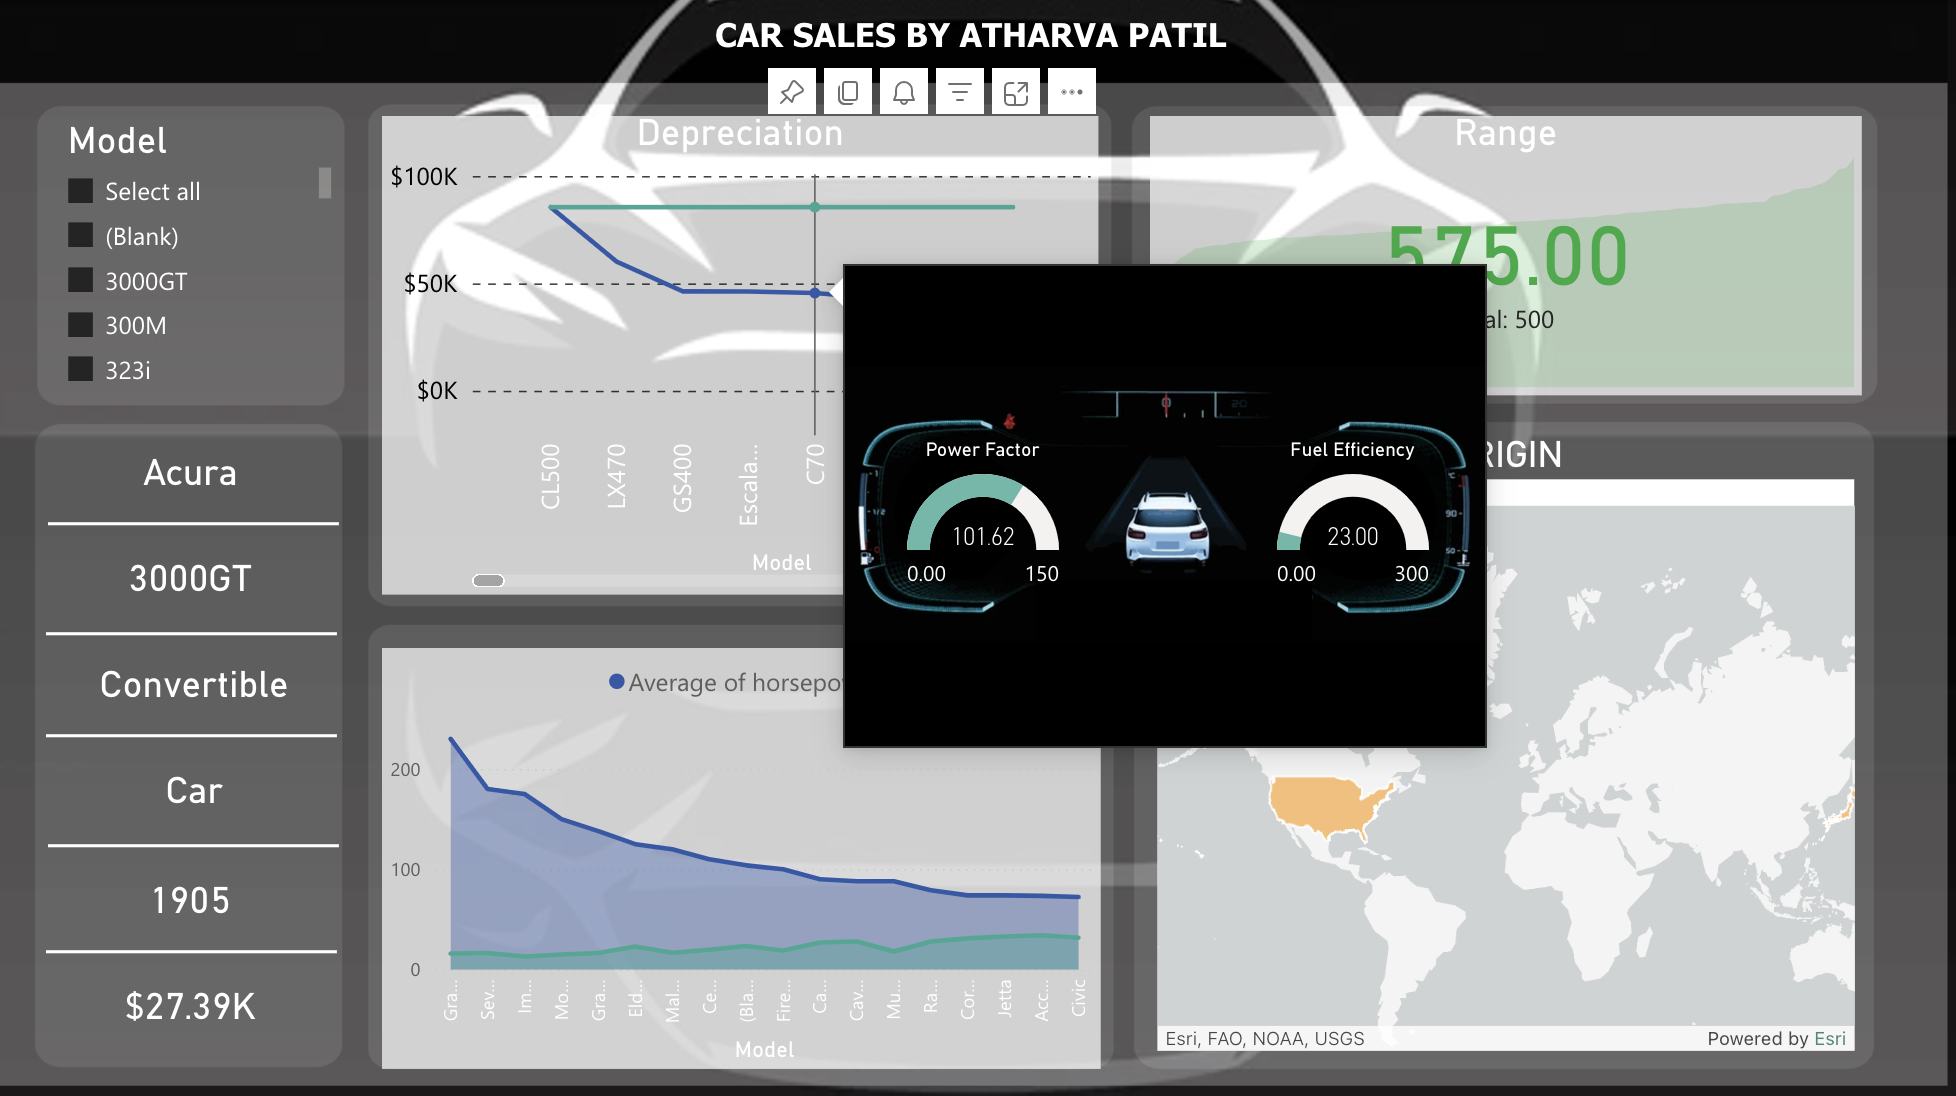

This screenshot's page, from the dashboard's own definition file:
{"tool":"powerbi","page":{"name":"Model","canvas":[1280,720],"ordinal":1},"visuals":[{"type":"textbox","box":[9.4,10.9,1256.2,35.9],"z":0},{"type":"lineChart","title":"Depreciation","fields":{"Category":["Car_sales.Model"],"Y":["Avg(Car_sales.Depreciation Amount)","Avg(Car_sales.Max Depreciation)"]},"box":[254.7,81.2,465.6,310.9],"z":1000},{"type":"areaChart","fields":{"Category":["Car_sales.Model"],"Y":["Avg(Car_info.horsepower)","Avg(Car_info.mpg)"]},"box":[254.7,428.1,467.2,273.4],"z":2000},{"type":"card","fields":{"Values":["Min(Car_model.Category)"]},"box":[39.1,415.6,187.5,68.8],"z":3000},{"type":"esriVisual","title":"ORIGIN","fields":{"Location":["Car_info.origin"]},"box":[753.1,290.6,462.5,403.1],"z":4000},{"type":"shape","box":[37.5,301.6,189.1,90.6],"z":5000},{"type":"card","fields":{"Values":["Min(Car_model.Year)"]},"box":[35.9,556.2,187.5,68.8],"z":6000},{"type":"shape","box":[35.9,373.4,189.1,90.6],"z":7000},{"type":"card","fields":{"Values":["Min(Car_sales.Model)"]},"box":[35.9,346.9,187.5,68.8],"z":8000},{"type":"shape","box":[35.9,439.1,189.1,90.6],"z":9000},{"type":"card","fields":{"Values":["Min(Car_sales.Vehicle_type)"]},"box":[39.1,484.4,187.5,68.8],"z":10000},{"type":"shape","box":[37.5,510.9,189.1,90.6],"z":11000},{"type":"card","fields":{"Values":["Min(Car_sales.Manufacturer)"]},"box":[35.9,278.1,187.5,68.8],"z":12000},{"type":"shape","box":[35.9,579.7,189.1,90.6],"z":13000},{"type":"card","fields":{"Values":["Avg(Car_sales.Price)"]},"box":[35.9,625,187.5,68.8],"z":14000},{"type":"kpi","title":"Range","fields":{"Indicator":["Avg(Car_sales.Range)"],"TrendLine":["Car_sales.Range"],"Goal":["Car_sales.target_range"]},"box":[753.1,81.2,462.5,181.2],"z":15000},{"type":"slicer","fields":{"Values":["Car_sales.Model"]},"box":[37.5,81.2,189.1,181.2],"z":16000}]}

Visuals, with their boxes on the page's 1280x720 design canvas (x1, y1, x2, y2). These are canvas units, not pixel positions in the 1956x1096 screenshot, which may show the page scaled, cropped or inside an application window:
textbox: box=[9, 11, 1266, 47]
"Depreciation" lineChart: box=[255, 81, 720, 392]
areaChart - Car_sales.Model x Avg(Car_info.horsepower): box=[255, 428, 722, 702]
card - Min(Car_model.Category): box=[39, 416, 227, 484]
"ORIGIN" esriVisual: box=[753, 291, 1216, 694]
shape: box=[38, 302, 227, 392]
card - Min(Car_model.Year): box=[36, 556, 223, 625]
shape: box=[36, 373, 225, 464]
card - Min(Car_sales.Model): box=[36, 347, 223, 416]
shape: box=[36, 439, 225, 530]
card - Min(Car_sales.Vehicle_type): box=[39, 484, 227, 553]
shape: box=[38, 511, 227, 602]
card - Min(Car_sales.Manufacturer): box=[36, 278, 223, 347]
shape: box=[36, 580, 225, 670]
card - Avg(Car_sales.Price): box=[36, 625, 223, 694]
"Range" kpi: box=[753, 81, 1216, 262]
slicer - Car_sales.Model: box=[38, 81, 227, 262]
